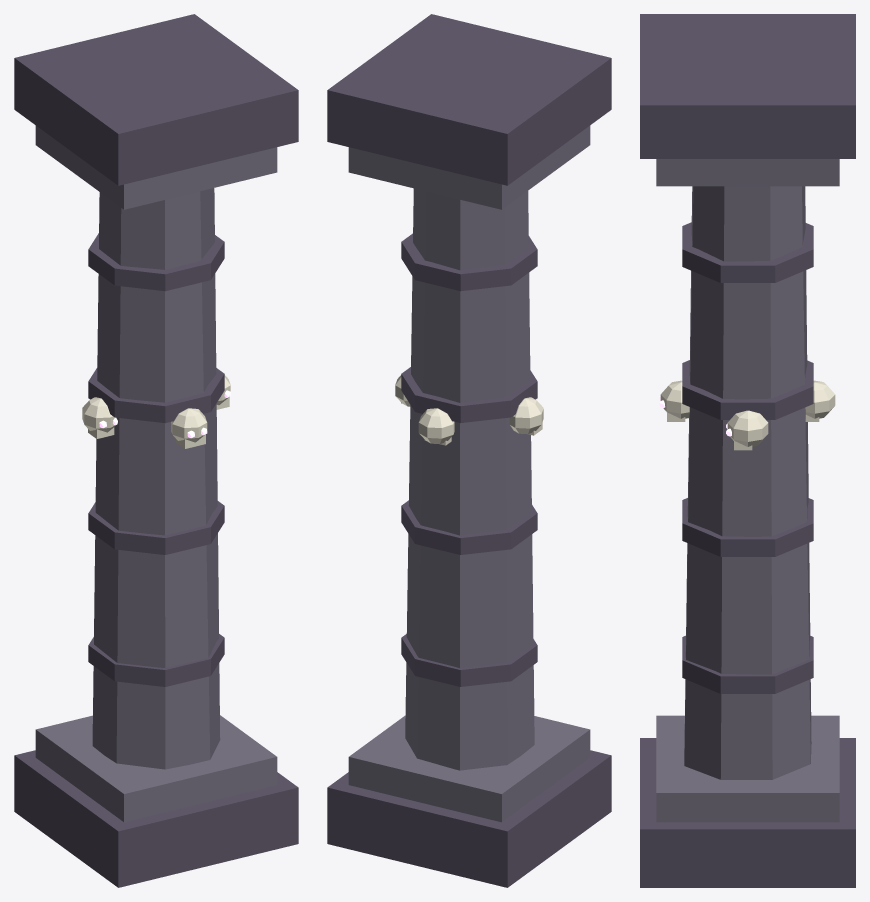
The model's file is gothic_pillar.glb.
The picture shows the model from 3 angles, left to right: view 1: azimuth 30°, elevation 25°; view 2: azimuth 150°, elevation 25°; view 3: azimuth 270°, elevation 25°; orthographic projection. The views are drawn at different scales.
Visible parts, largest first — view 1: gothic_pillar; view 2: gothic_pillar; view 3: gothic_pillar.
Boxes of the visible parts, <box> form: gothic_pillar: <box>14,14,298,887</box>; gothic_pillar: <box>327,14,611,887</box>; gothic_pillar: <box>640,14,855,887</box>.
Bounding box in the file's own units: 2 × 8 × 2.
